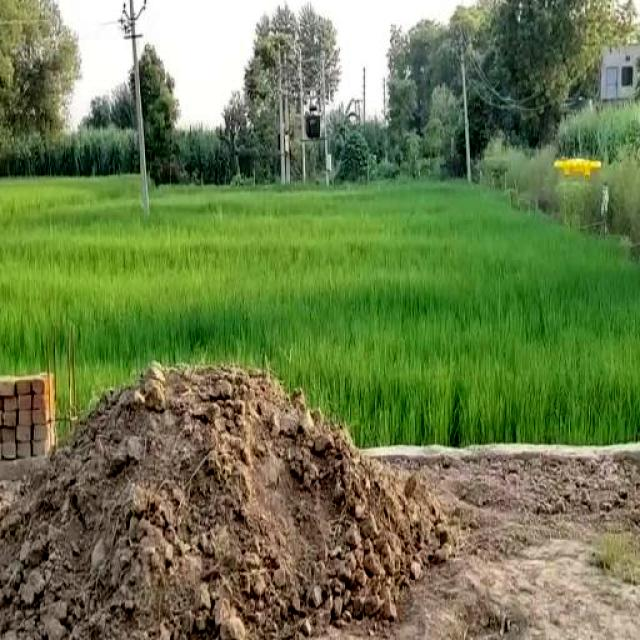bird: (550, 129, 610, 185)
